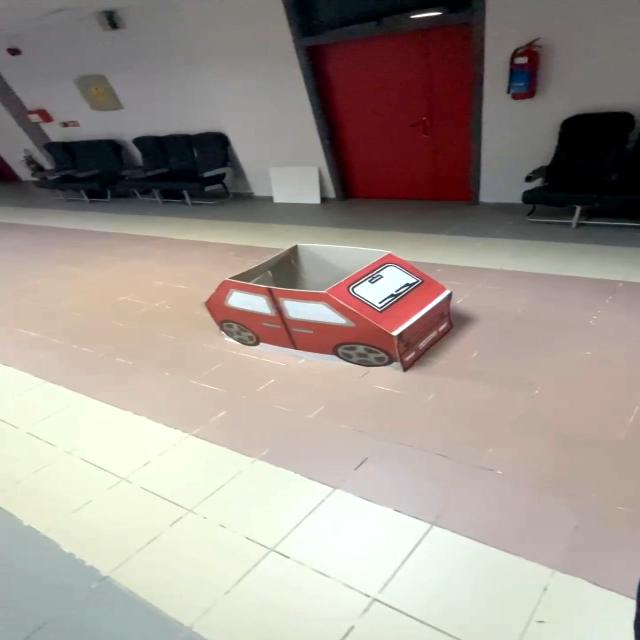red_car: (183, 227, 495, 413)
